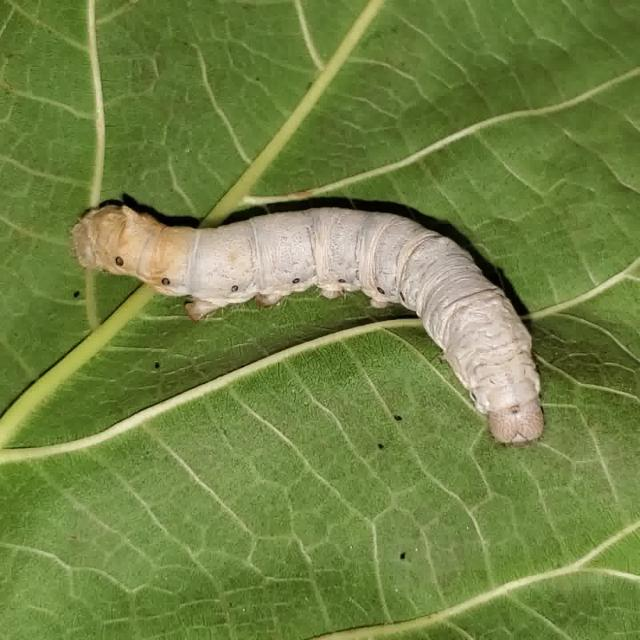Grasserie: (60, 154, 553, 454)
